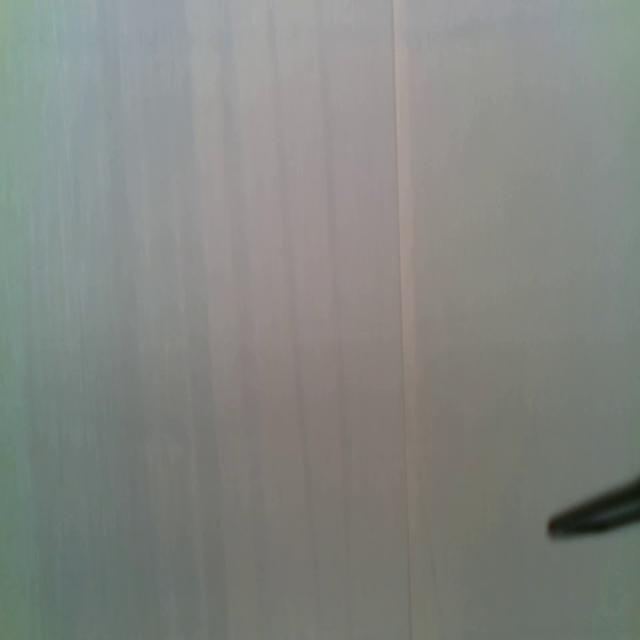crease: (390, 0, 414, 640)
